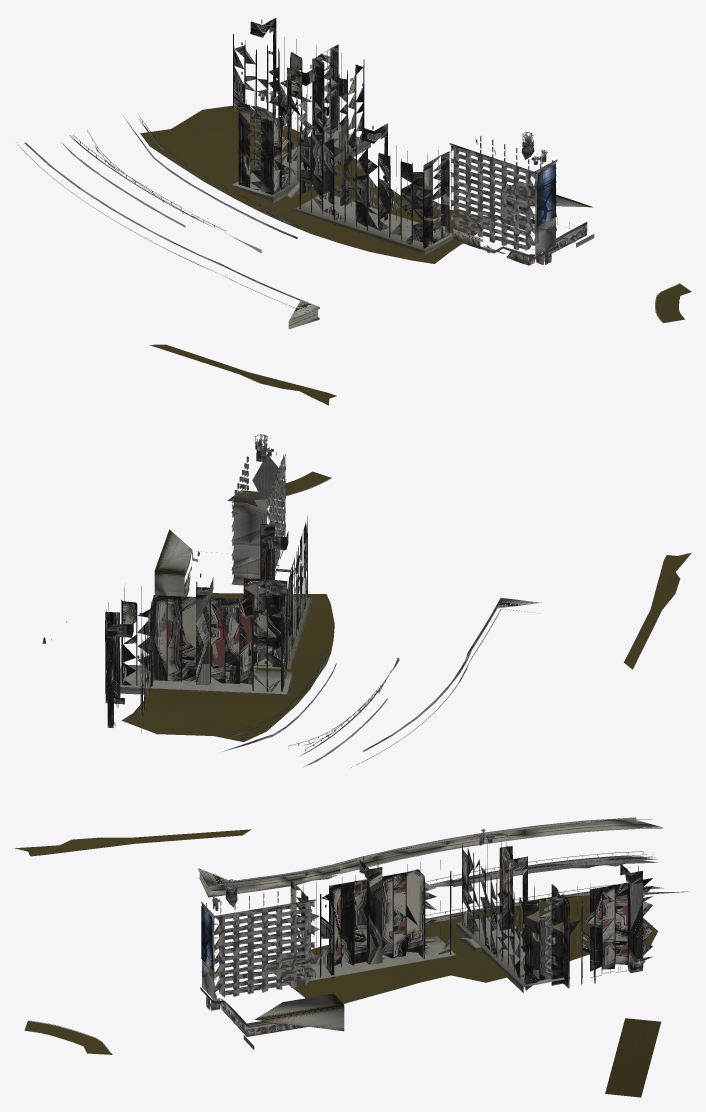
Rendered from world_camden_9_-2.gltf.
The picture shows the model from 3 angles, top to bottom: view 1: azimuth 30°, elevation 25°; view 2: azimuth 150°, elevation 25°; view 3: azimuth 270°, elevation 25°; orthographic projection. The views are drawn at different scales.
Bounding box in the file's own units: 221 × 93.67 × 281.
21 materials, 21 textured.
